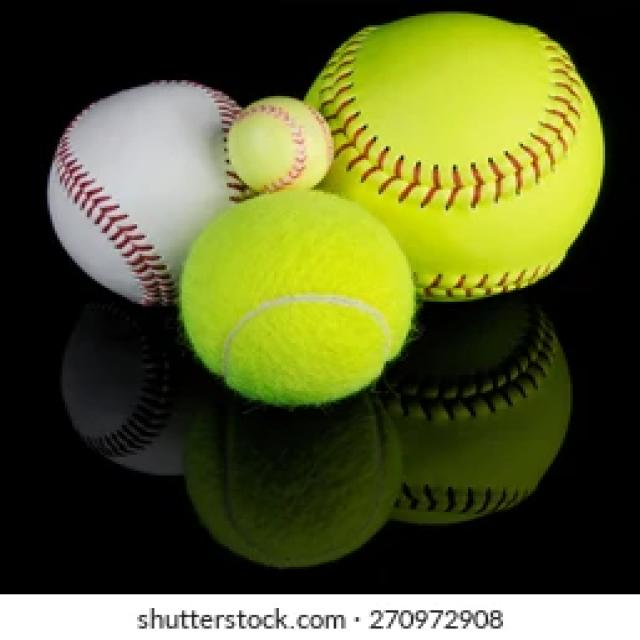beisbol ball: (47, 81, 250, 308)
pin pong ball: (224, 97, 334, 199)
softball ball: (305, 14, 601, 300)
tenis ball: (179, 188, 415, 405)
